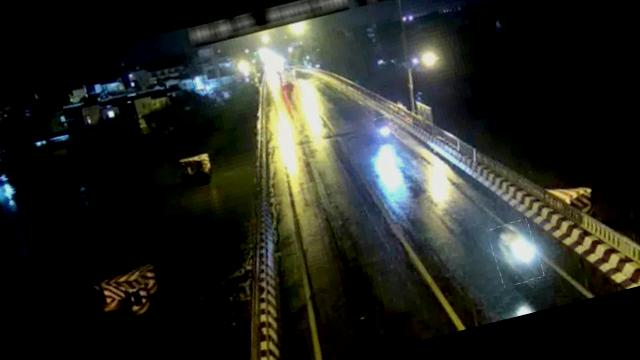Bike: (488, 218, 544, 288), (374, 114, 398, 145)
